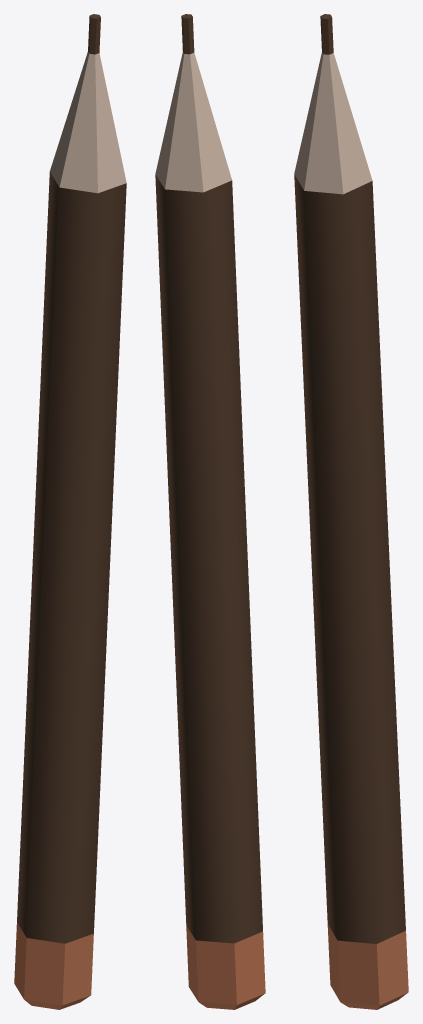
Rendered from 24_prop_pencil.FBX.
The picture shows the model from 3 angles, left to right: view 1: azimuth 90°, elevation 25°; view 2: azimuth 210°, elevation 25°; view 3: azimuth 270°, elevation 25°; orthographic projection.
Parts seen in each view (by area): view 1: prop_pencil; view 2: prop_pencil; view 3: prop_pencil.
Part boxes in pixels (box(x1,y1,x2,y2)): prop_pencil: box(14, 14, 126, 1009); prop_pencil: box(155, 14, 265, 1009); prop_pencil: box(294, 14, 408, 1009).
Size of the model in its own units: 1.27 by 14.29 by 1.5.
